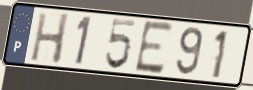1: (74, 15, 93, 68), (211, 29, 230, 80)
5: (104, 17, 137, 72)
9: (175, 25, 204, 77)
E: (133, 19, 176, 77)
H: (28, 11, 72, 66)
